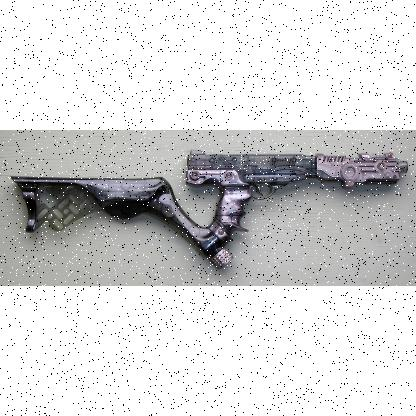gun: (13, 142, 415, 270), (184, 148, 408, 244)
